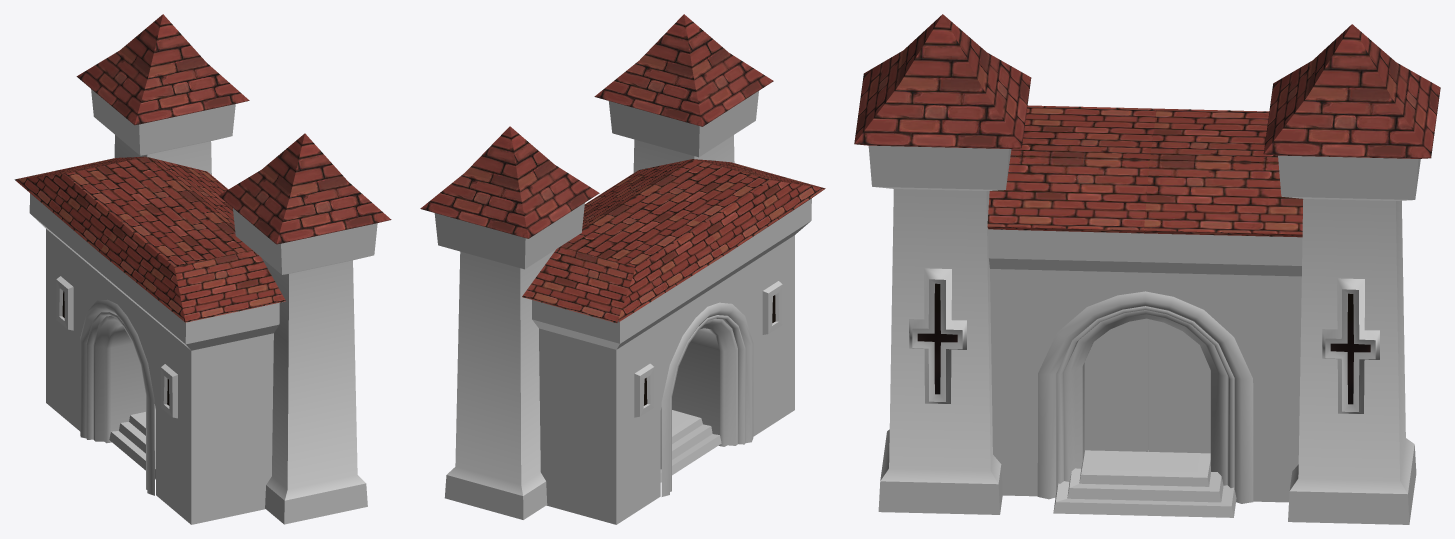
File: UD_Objective_CastleDoor.FBX
3 renders of one model, left to right at view 1: azimuth 30°, elevation 25°; view 2: azimuth 150°, elevation 25°; view 3: azimuth 270°, elevation 25°, orthographic. The views are drawn at different scales.
Visible parts, largest first — view 1: Fortress_Gate; view 2: Fortress_Gate; view 3: Fortress_Gate, Gate_Left, Gate_Right005.
Boxes of the visible parts, x1,y1,x2,y2 form: Fortress_Gate: [14, 14, 391, 524]; Fortress_Gate: [420, 14, 825, 524]; Fortress_Gate: [854, 14, 1440, 524]; Gate_Left: [1084, 318, 1148, 451]; Gate_Right005: [1149, 319, 1210, 453].
Bounding box in the file's own units: 6.09 × 10.37 × 11.6.
